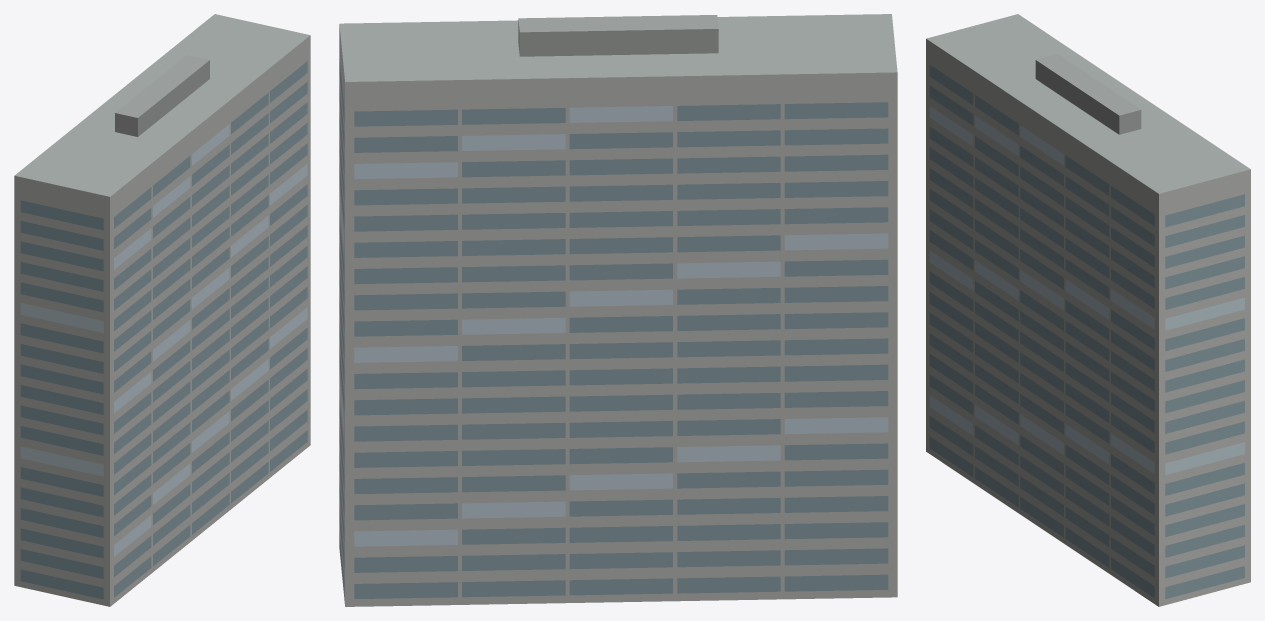
The model's file is fallback-sk-bukhansan-city-144.glb.
The picture shows the model from 3 angles, left to right: view 1: azimuth 30°, elevation 25°; view 2: azimuth 150°, elevation 25°; view 3: azimuth 270°, elevation 25°; orthographic projection. The views are drawn at different scales.
Visible parts, largest first — view 1: fallback-sk-bukhansan-city-144; view 2: fallback-sk-bukhansan-city-144; view 3: fallback-sk-bukhansan-city-144.
Boxes of the visible parts, box(x1,y1,x2,y2) form: fallback-sk-bukhansan-city-144: box(14, 14, 310, 606); fallback-sk-bukhansan-city-144: box(339, 14, 897, 606); fallback-sk-bukhansan-city-144: box(926, 14, 1250, 606).
Bounding box in the file's own units: 48.21 × 54 × 36.78.
